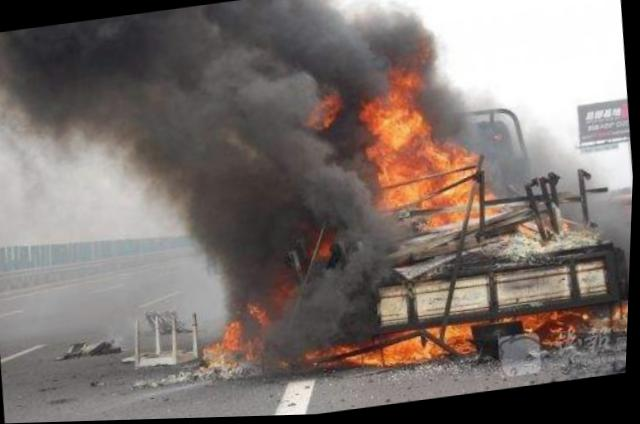fire: (178, 19, 611, 387)
